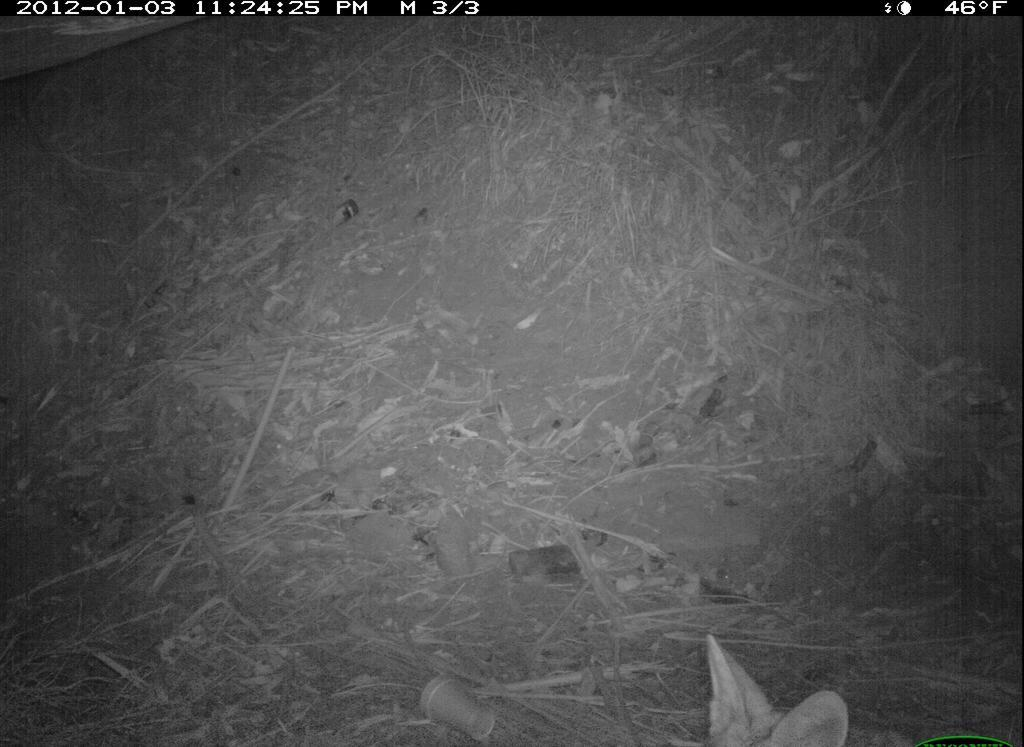coyote: (669, 624, 861, 745)
